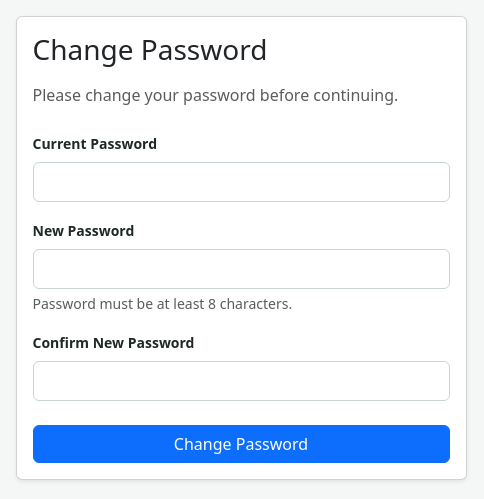
Scenario: Lab 3 - First Login Password Change › disables the button while the password is being changed
Type "Password123!" into the password field labelled "Current Password" at (241, 182), box [32,162,450,202]
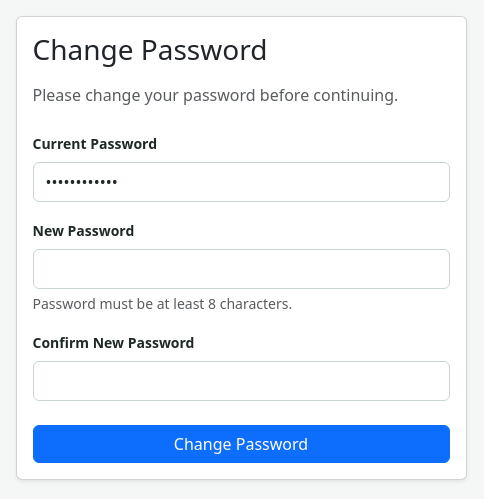
Type "NewPassword123!" into the password field labelled "New Password" at (241, 269), box [32,249,450,289]
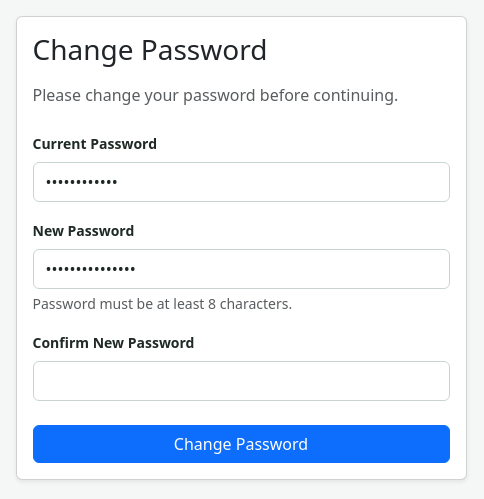
Type "NewPassword123!" into the password field labelled "Confirm New Password" at (241, 381), box [32,361,450,401]
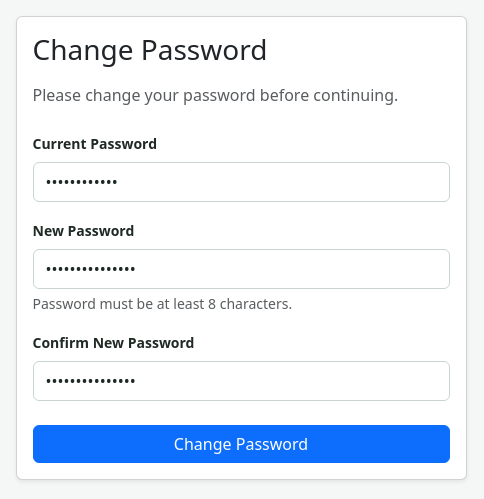
Click the button "Change Password" at (241, 444), box [32,425,450,463]
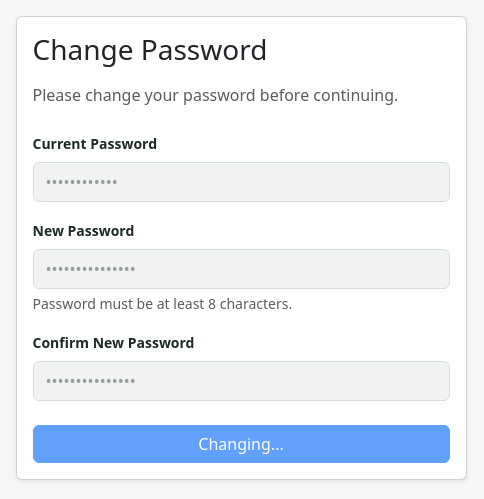
Expected: the button named "change password" is disabled, [32,425,450,463]
